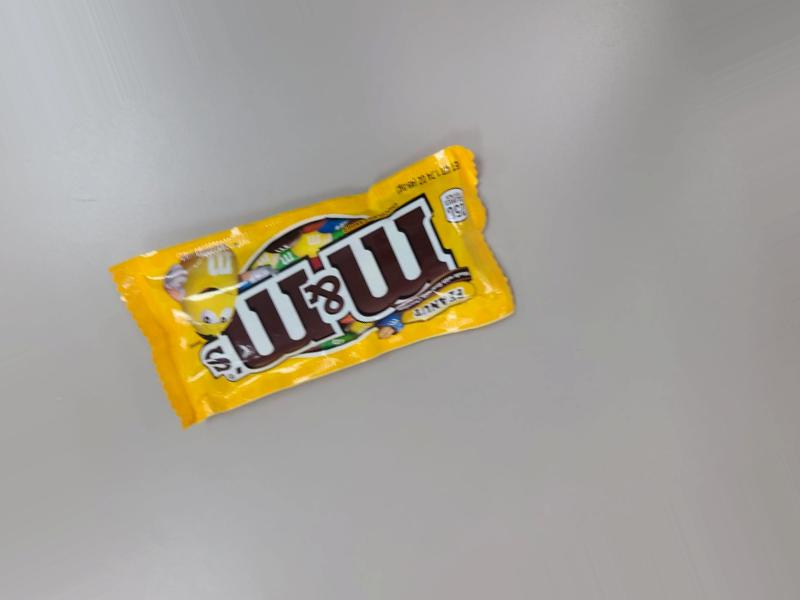m&m: (126, 131, 525, 454)
